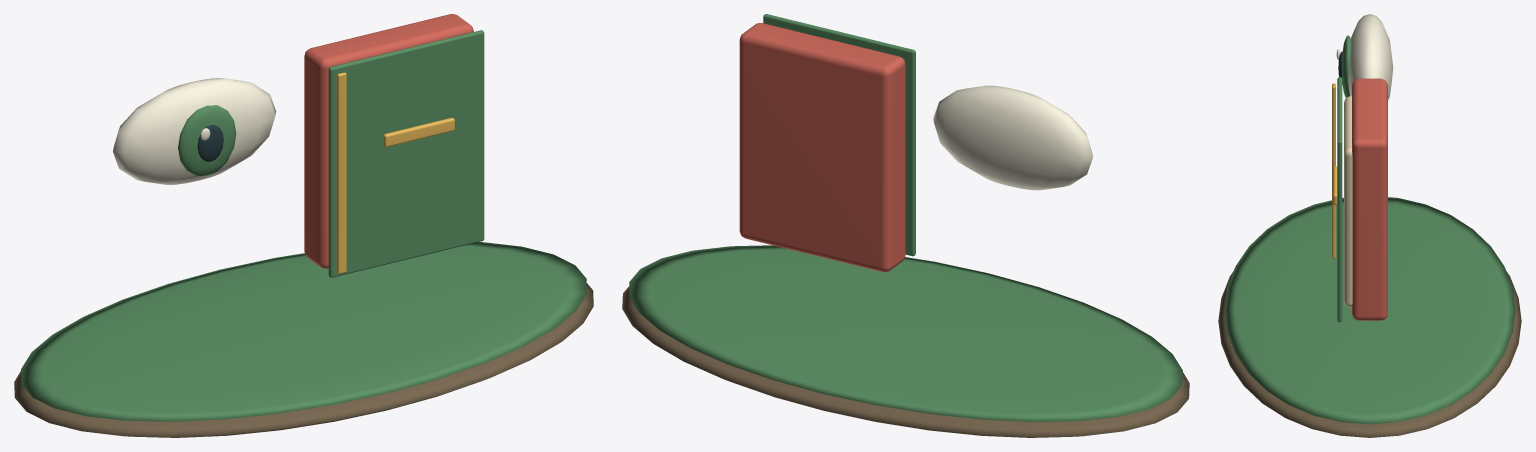
File: examining-book.glb
The picture shows the model from 3 angles, left to right: view 1: azimuth 30°, elevation 25°; view 2: azimuth 150°, elevation 25°; view 3: azimuth 270°, elevation 25°; orthographic projection. The views are drawn at different scales.
Parts seen in each view (by area): view 1: examining-book_surface_01, examining-book_surface_00, examining-book_surface_02, examining-book_surface_04, examining-book_surface_06, examining-book_surface_03; view 2: examining-book_surface_01, examining-book_surface_04, examining-book_surface_02, examining-book_surface_00; view 3: examining-book_surface_01, examining-book_surface_04, examining-book_surface_00, examining-book_surface_02, examining-book_surface_05, examining-book_surface_06.
Part boxes in pixels (box(x1,y1,x2,y2)): examining-book_surface_01: box(21, 30, 586, 421); examining-book_surface_00: box(14, 283, 593, 437); examining-book_surface_02: box(113, 78, 276, 185); examining-book_surface_04: box(304, 14, 473, 268); examining-book_surface_06: box(336, 72, 454, 273); examining-book_surface_03: box(197, 125, 223, 161); examining-book_surface_01: box(629, 14, 1182, 422); examining-book_surface_04: box(739, 23, 905, 272); examining-book_surface_02: box(933, 85, 1092, 190); examining-book_surface_00: box(622, 286, 1189, 437); examining-book_surface_01: box(1224, 35, 1515, 424); examining-book_surface_04: box(1352, 78, 1387, 320); examining-book_surface_00: box(1218, 271, 1521, 437); examining-book_surface_02: box(1336, 14, 1393, 100); examining-book_surface_05: box(1344, 96, 1352, 307); examining-book_surface_06: box(1332, 83, 1337, 258).
Size of the model in its own units: 4.56 by 2.39 by 2.5.
